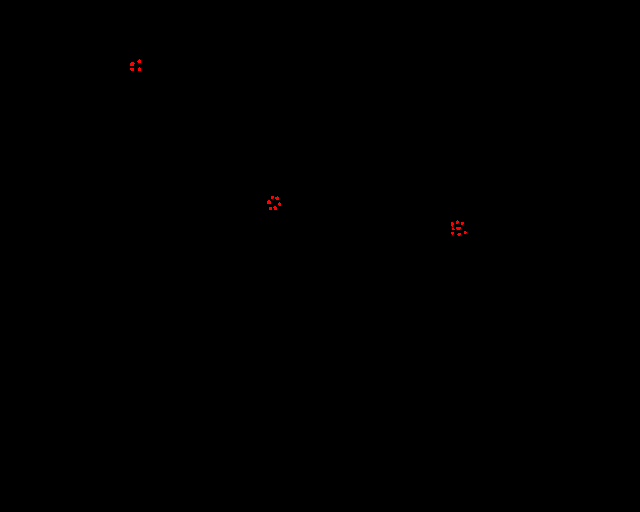Target: (130, 62, 135, 66), (137, 59, 141, 63), (275, 196, 279, 200), (267, 200, 271, 204), (273, 206, 277, 210), (451, 222, 454, 227), (456, 227, 461, 230), (138, 67, 141, 71), (130, 68, 134, 71), (278, 202, 281, 206), (456, 220, 459, 224), (457, 233, 461, 236), (271, 196, 274, 199), (269, 207, 272, 210), (461, 222, 464, 225), (464, 231, 467, 234), (451, 232, 454, 235), (452, 228, 455, 230)
